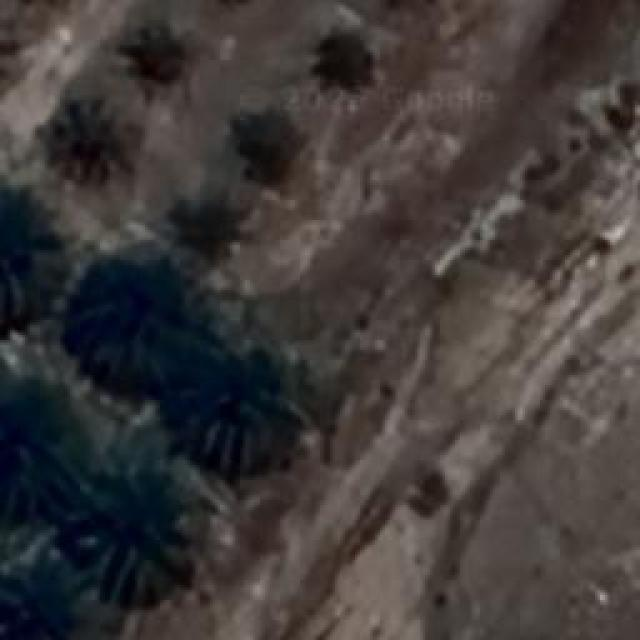PalmTree: (67, 258, 185, 362), (70, 480, 192, 580), (178, 371, 294, 464), (0, 178, 58, 322), (35, 102, 125, 188), (0, 388, 65, 498), (7, 557, 84, 640), (228, 108, 308, 180), (130, 27, 202, 95), (318, 34, 378, 96), (177, 208, 245, 256)
